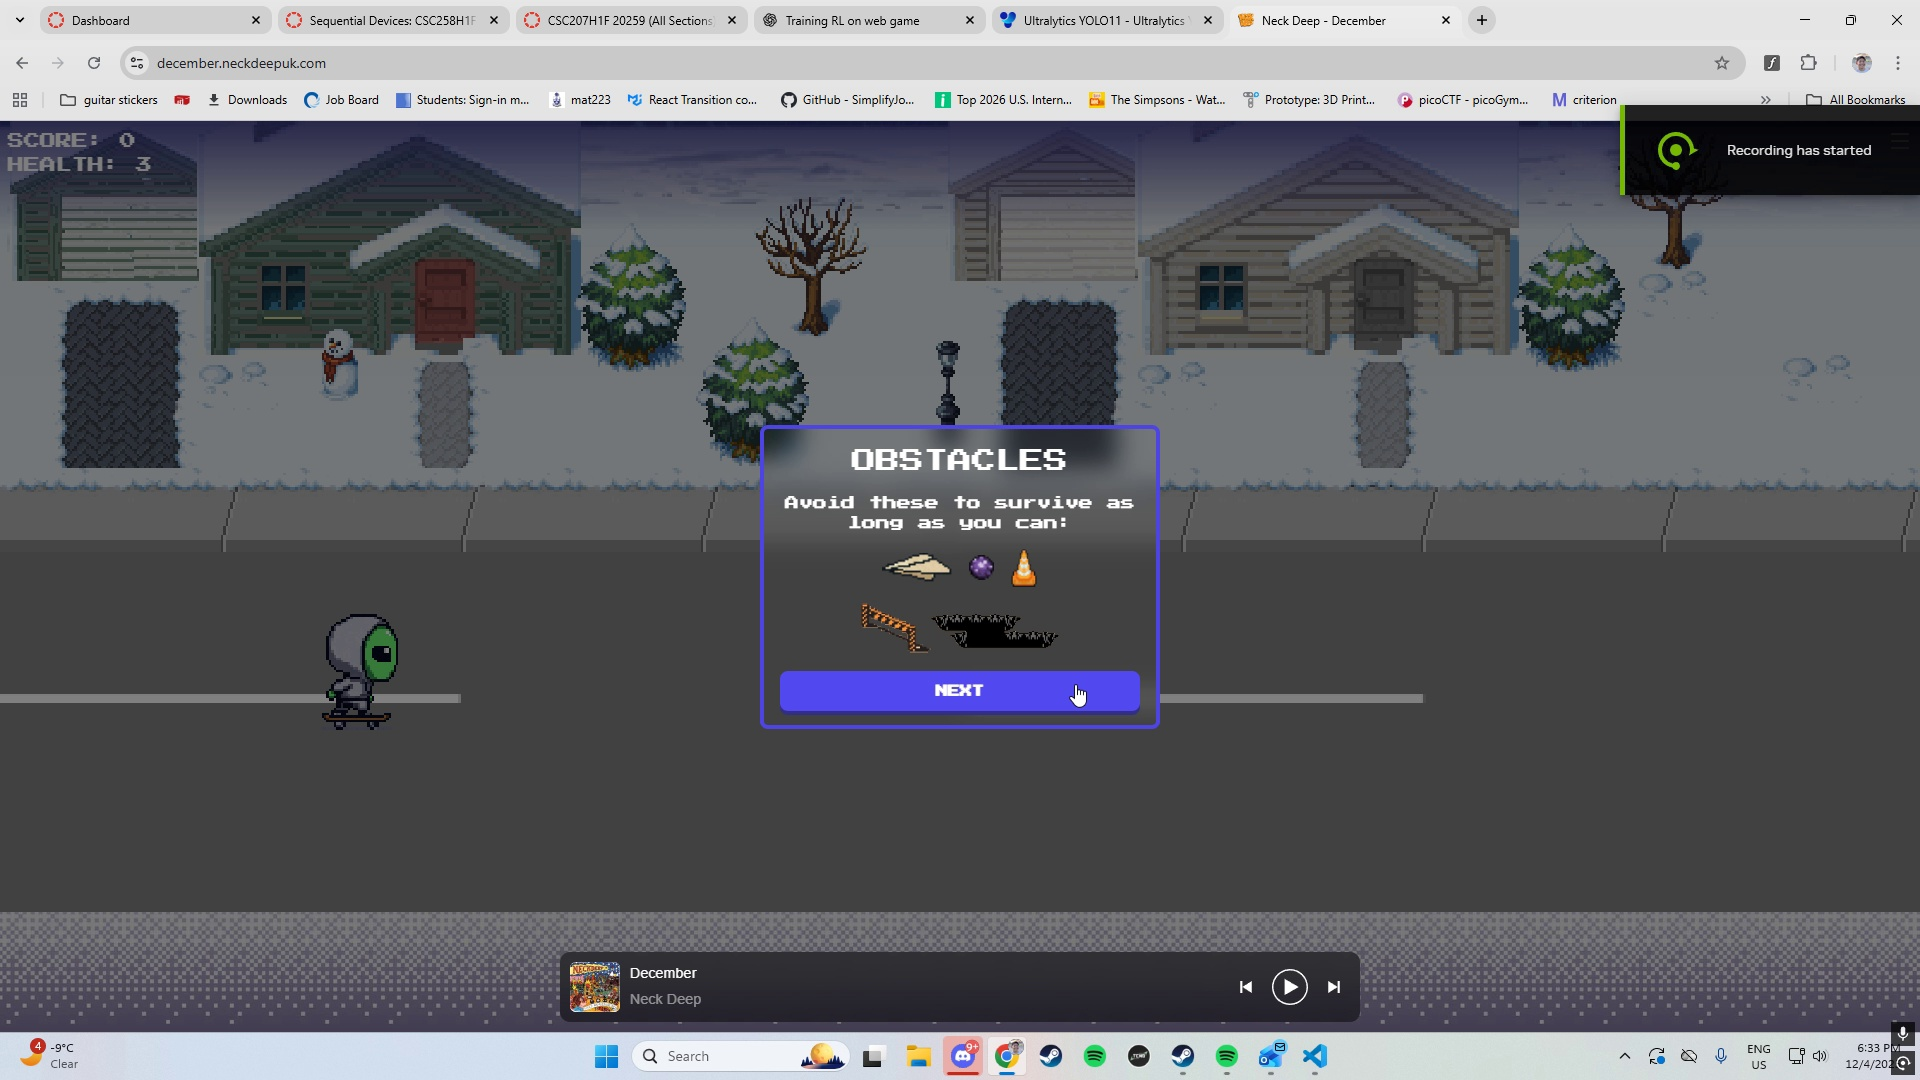Player: (301, 602, 417, 736)
